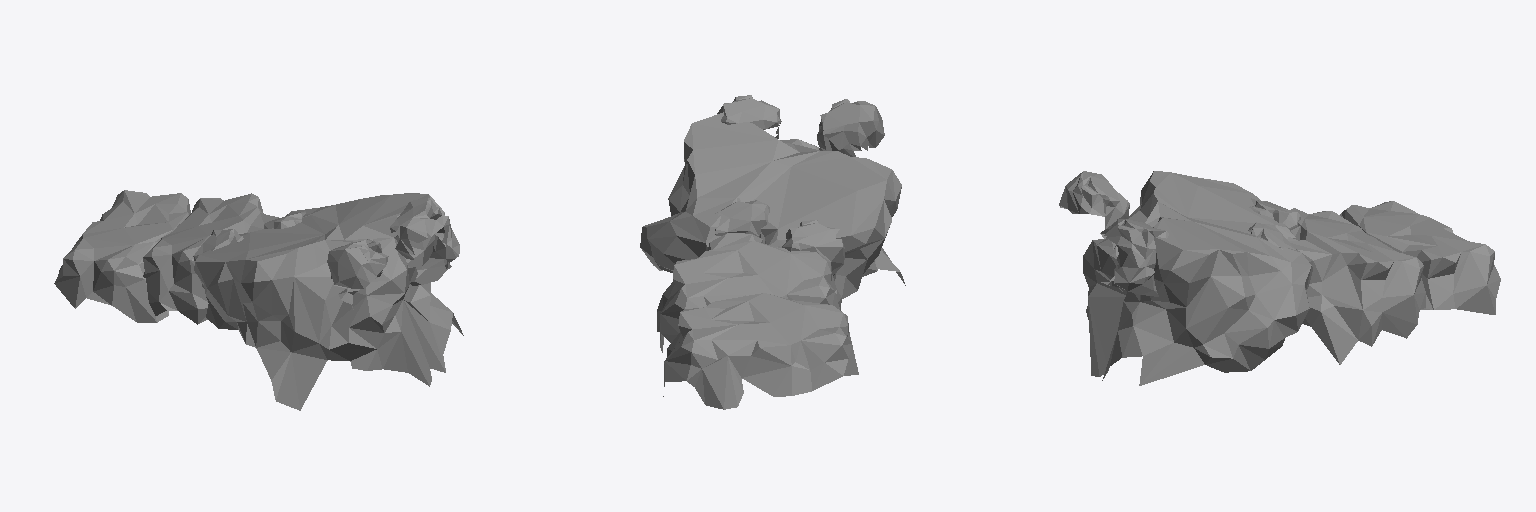
The model's file is Straight.obj.
3 renders of one model, left to right at view 1: azimuth 30°, elevation 25°; view 2: azimuth 150°, elevation 25°; view 3: azimuth 270°, elevation 25°, orthographic.
Visible parts, largest first — view 1: SM_RockRamp_Straight_01; view 2: SM_RockRamp_Straight_01; view 3: SM_RockRamp_Straight_01.
Part boxes in pixels (x1,y1,x2,y2): SM_RockRamp_Straight_01: (54, 190, 463, 410); SM_RockRamp_Straight_01: (640, 95, 905, 409); SM_RockRamp_Straight_01: (1059, 171, 1500, 385).
Bounding box in the file's own units: 1814 × 1013 × 2505.